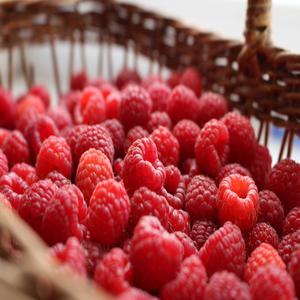raspb: (23, 117, 289, 289)
